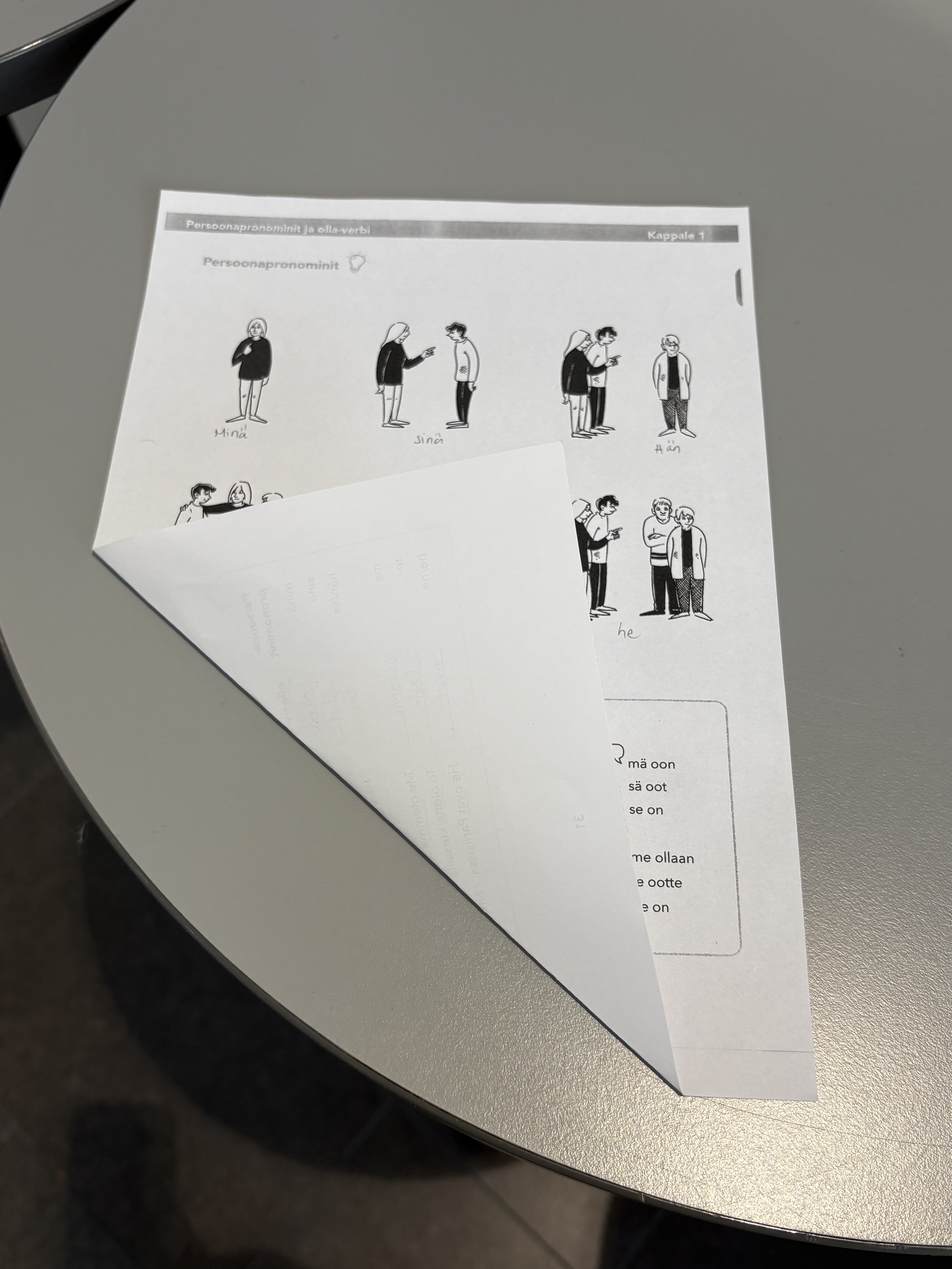paper: (89, 183, 831, 1108)
